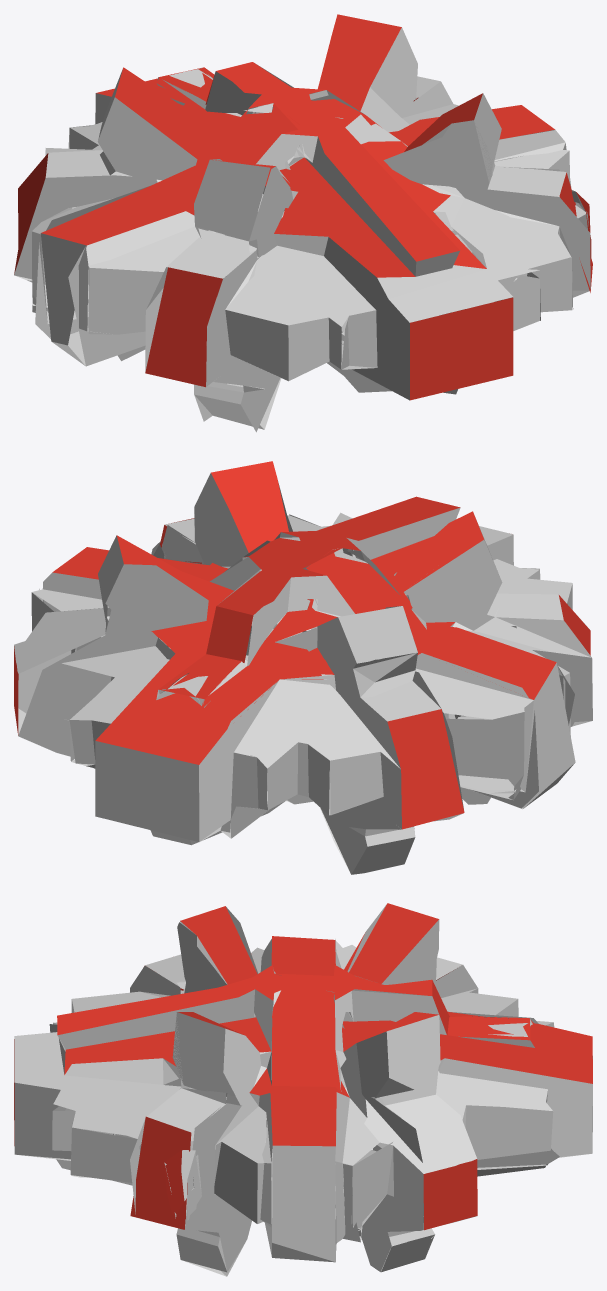
The model's file is warden_t1.glb.
The picture shows the model from 3 angles, top to bottom: view 1: azimuth 30°, elevation 25°; view 2: azimuth 150°, elevation 25°; view 3: azimuth 270°, elevation 25°; orthographic projection. The views are drawn at different scales.
Parts seen in each view (by area): view 1: GeometricCluster; view 2: GeometricCluster; view 3: GeometricCluster.
Part boxes in pixels (x1=…): GeometricCluster: x1=14, y1=14, x2=592, y2=432; GeometricCluster: x1=14, y1=461, x2=592, y2=874; GeometricCluster: x1=14, y1=903, x2=592, y2=1276.
Bounding box in the file's own units: 0.7034 × 0.3555 × 0.7554.
